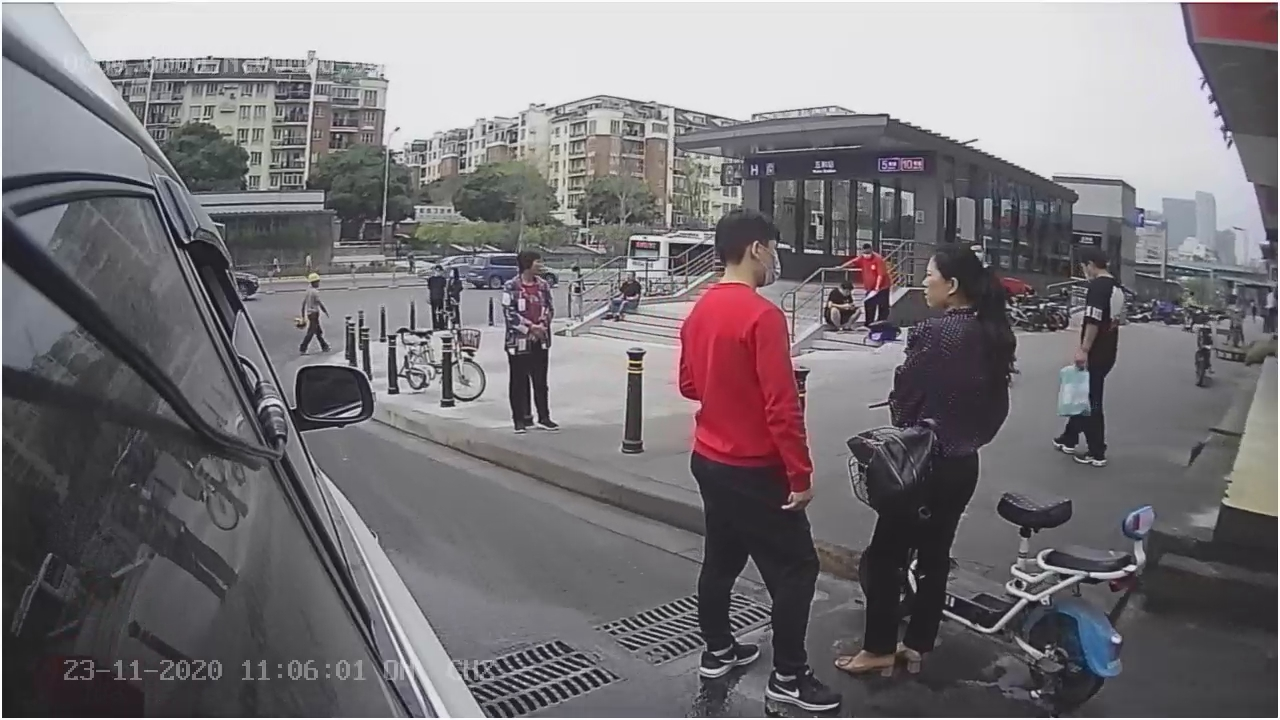person: (680, 211, 843, 710)
